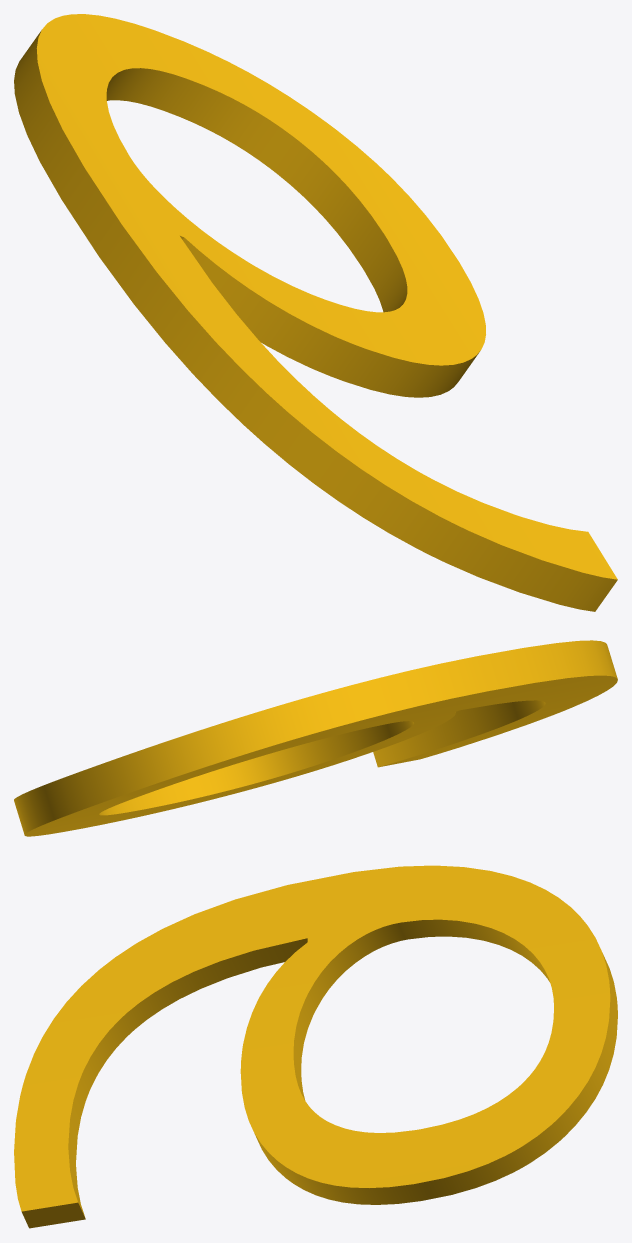
The model's file is Number_9.gltf.
The picture shows the model from 3 angles, top to bottom: view 1: azimuth 30°, elevation 25°; view 2: azimuth 150°, elevation 25°; view 3: azimuth 270°, elevation 25°; orthographic projection. The views are drawn at different scales.
Parts seen in each view (by area): view 1: Sub_8_Cell_2_2_Number_9; view 2: Sub_8_Cell_2_2_Number_9; view 3: Sub_8_Cell_2_2_Number_9.
Part boxes in pixels (<box>): Sub_8_Cell_2_2_Number_9: <box>14,14,617,611</box>; Sub_8_Cell_2_2_Number_9: <box>14,640,617,836</box>; Sub_8_Cell_2_2_Number_9: <box>14,865,617,1228</box>.
Size of the model in its own units: 0.0157 by 0.0126 by 0.0253.
